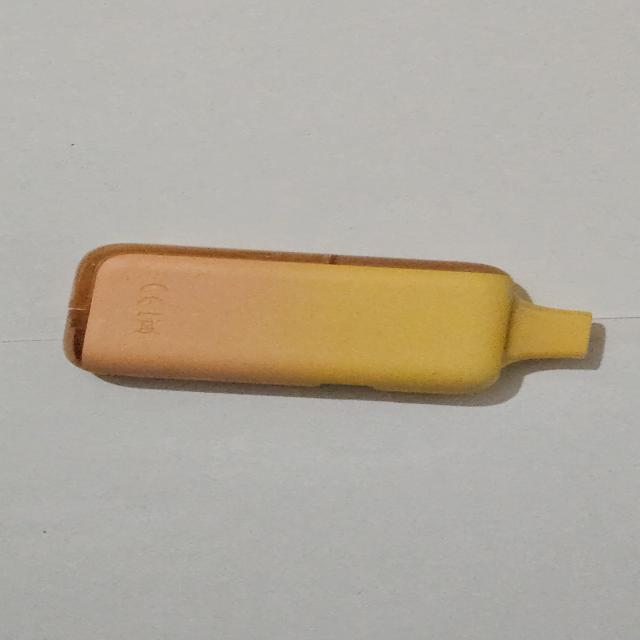Hazard: (62, 242, 594, 396)
